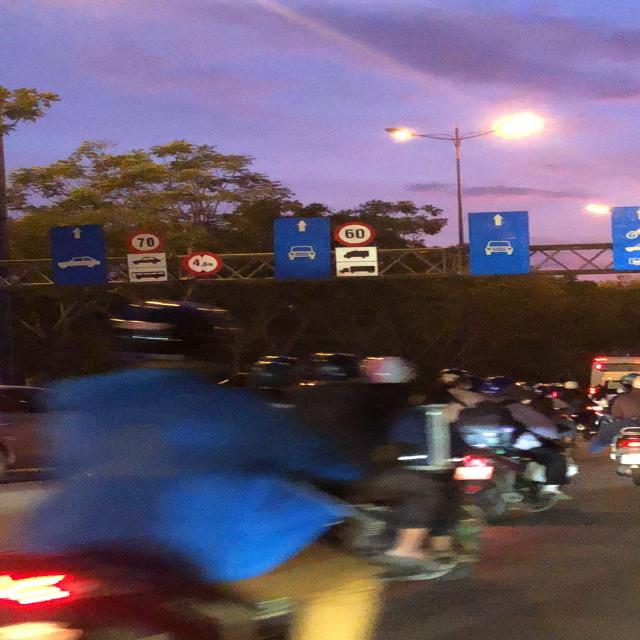Bien bao han che chieu cao: (183, 250, 225, 279)
Bien bao toc do toi da cho phep: (328, 219, 379, 249), (125, 230, 167, 254)
